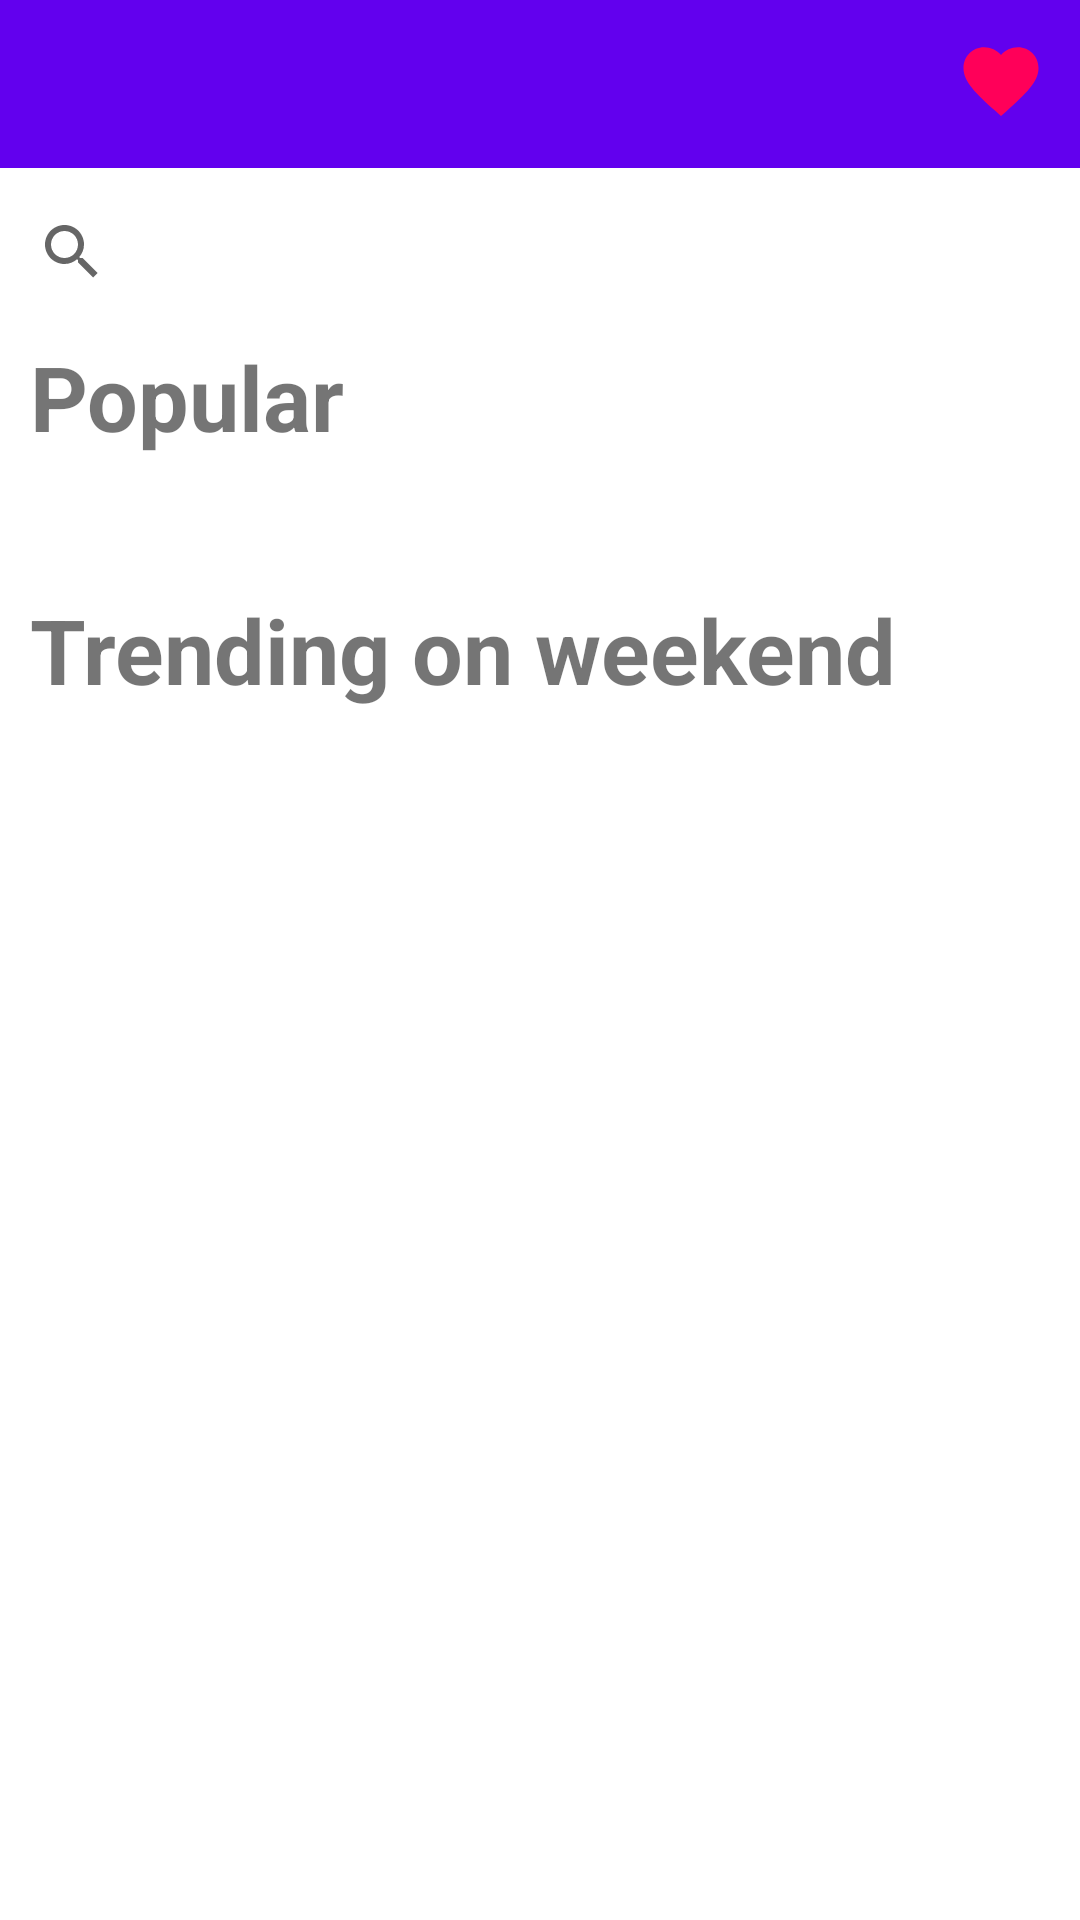

Where to tap for icons on this 1080 × 1920 app screen, as point (x, y):
favorite: point (1001, 81)
